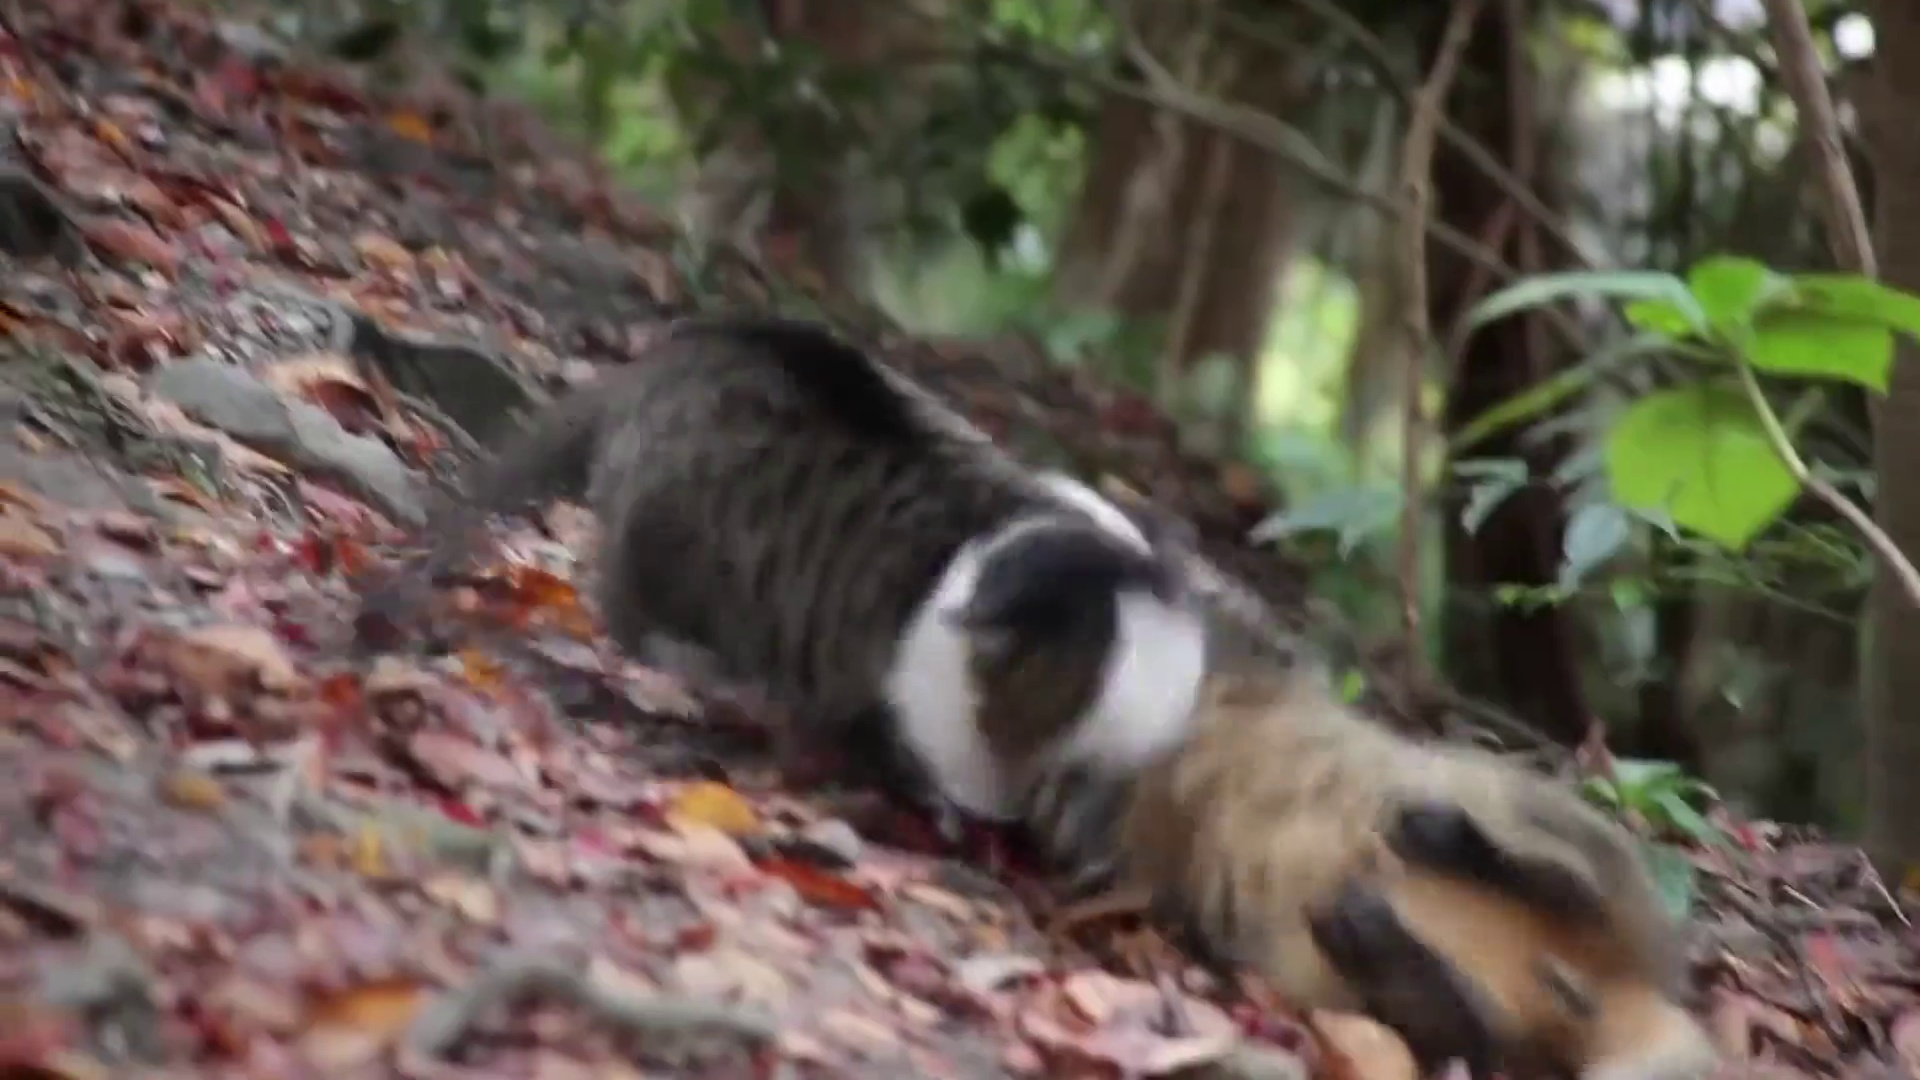black-white: (467, 320, 1197, 822)
pure black: (1112, 666, 1701, 1080)
